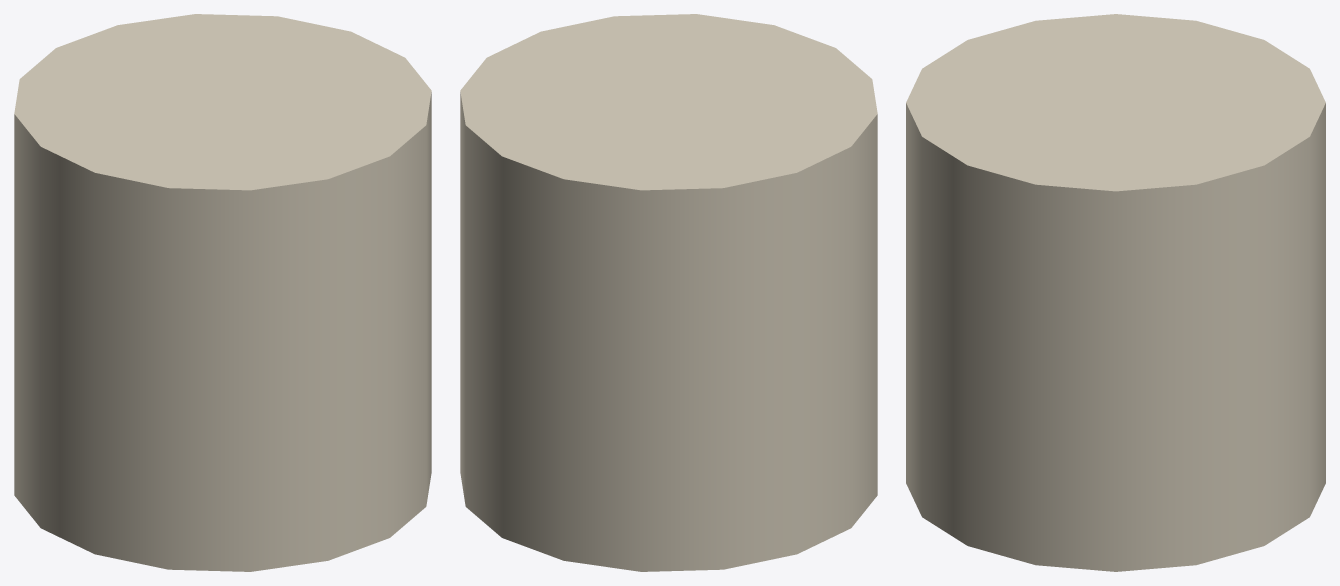
3 renders of one model, left to right at view 1: azimuth 30°, elevation 25°; view 2: azimuth 150°, elevation 25°; view 3: azimuth 270°, elevation 25°, orthographic.
Parts seen in each view (by area): view 1: cylinder-ceramic; view 2: cylinder-ceramic; view 3: cylinder-ceramic.
Boxes of the visible parts, bbox=[...] form: cylinder-ceramic: bbox=[14, 14, 431, 571]; cylinder-ceramic: bbox=[460, 14, 877, 571]; cylinder-ceramic: bbox=[906, 14, 1325, 571].
Size of the model in its own units: 1 by 1 by 1.
